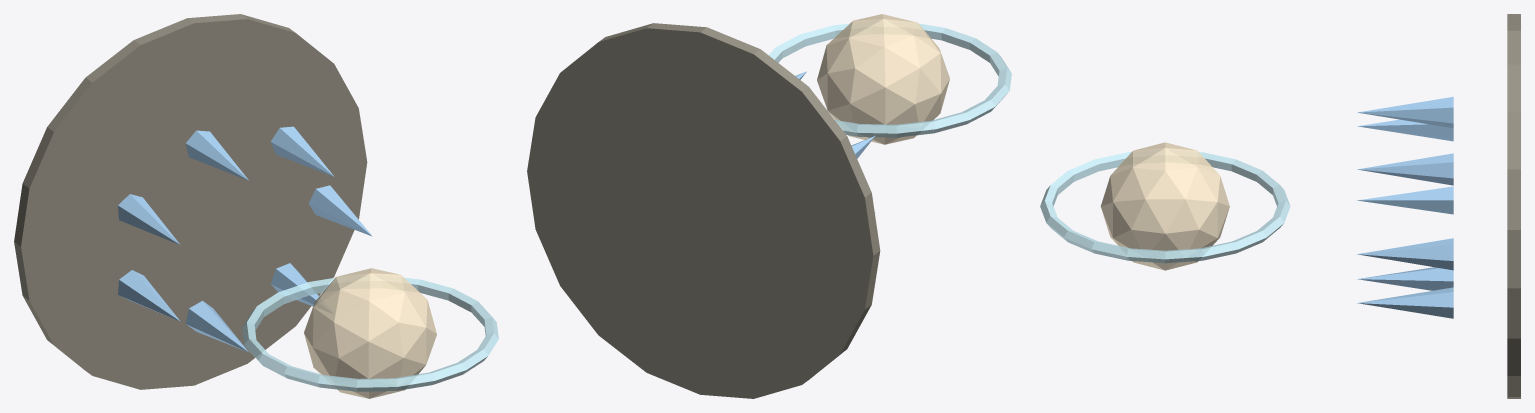
Rendered from 06_weather_terrain_nature_module.glb.
3 renders of one model, left to right at view 1: azimuth 30°, elevation 25°; view 2: azimuth 150°, elevation 25°; view 3: azimuth 270°, elevation 25°, orthographic. The views are drawn at different scales.
Parts seen in each view (by area): view 1: terrain_patch, sun_color_preview, weather_halo, nature_or_weather_element_2, nature_or_weather_element_1, nature_or_weather_element_0, nature_or_weather_element_3, nature_or_weather_element_5, nature_or_weather_element_4, nature_or_weather_element_6; view 2: terrain_patch, sun_color_preview, weather_halo; view 3: sun_color_preview, weather_halo, terrain_patch, nature_or_weather_element_0, nature_or_weather_element_1, nature_or_weather_element_2, nature_or_weather_element_6, nature_or_weather_element_4, nature_or_weather_element_5, nature_or_weather_element_3.
Boxes of the visible parts, left/top/right/bottom form: terrain_patch: left=14, top=14, right=367, bottom=389; sun_color_preview: left=304, top=268, right=436, bottom=398; weather_halo: left=242, top=277, right=498, bottom=391; nature_or_weather_element_2: left=185, top=130, right=248, bottom=180; nature_or_weather_element_1: left=271, top=126, right=334, bottom=176; nature_or_weather_element_0: left=308, top=185, right=372, bottom=236; nature_or_weather_element_3: left=118, top=194, right=180, bottom=244; nature_or_weather_element_5: left=185, top=300, right=248, bottom=352; nature_or_weather_element_4: left=118, top=270, right=180, bottom=321; nature_or_weather_element_6: left=271, top=263, right=319, bottom=306; terrain_patch: left=527, top=23, right=880, bottom=398; sun_color_preview: left=817, top=14, right=949, bottom=144; weather_halo: left=768, top=23, right=1011, bottom=137; sun_color_preview: left=1100, top=142, right=1229, bottom=270; weather_halo: left=1040, top=152, right=1290, bottom=263; terrain_patch: left=1507, top=14, right=1520, bottom=398; nature_or_weather_element_0: left=1357, top=238, right=1453, bottom=270; nature_or_weather_element_1: left=1357, top=153, right=1453, bottom=185; nature_or_weather_element_2: left=1357, top=96, right=1453, bottom=128; nature_or_weather_element_6: left=1357, top=287, right=1453, bottom=318; nature_or_weather_element_4: left=1357, top=186, right=1453, bottom=214; nature_or_weather_element_5: left=1357, top=267, right=1453, bottom=290; nature_or_weather_element_3: left=1357, top=119, right=1453, bottom=141.
Size of the model in its own units: 1.44 by 1.44 by 1.78.
